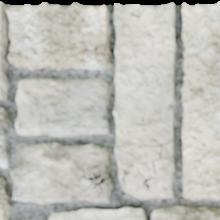brick: (114, 5, 175, 198), (0, 1, 109, 99), (182, 1, 219, 199), (11, 143, 113, 203), (16, 79, 109, 136), (50, 208, 145, 219), (152, 206, 219, 219), (0, 108, 11, 167), (0, 177, 10, 219)
crack: (2, 0, 217, 12), (75, 162, 110, 189)
